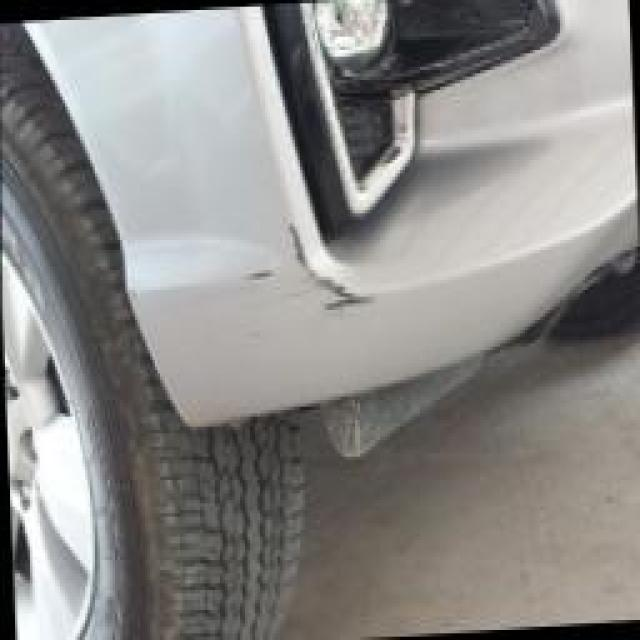Bumper: (175, 160, 441, 370)
